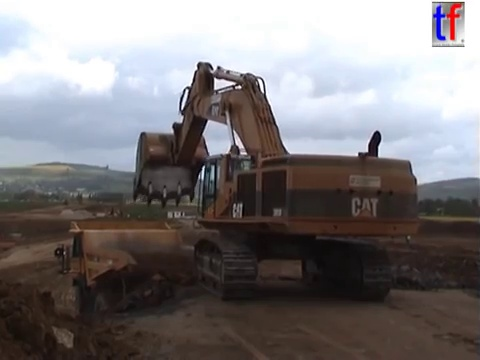excavator: (128, 58, 424, 304), (102, 205, 130, 224)
truck: (52, 216, 246, 328), (61, 197, 71, 207), (77, 196, 85, 205)
worker: (402, 223, 416, 246)
